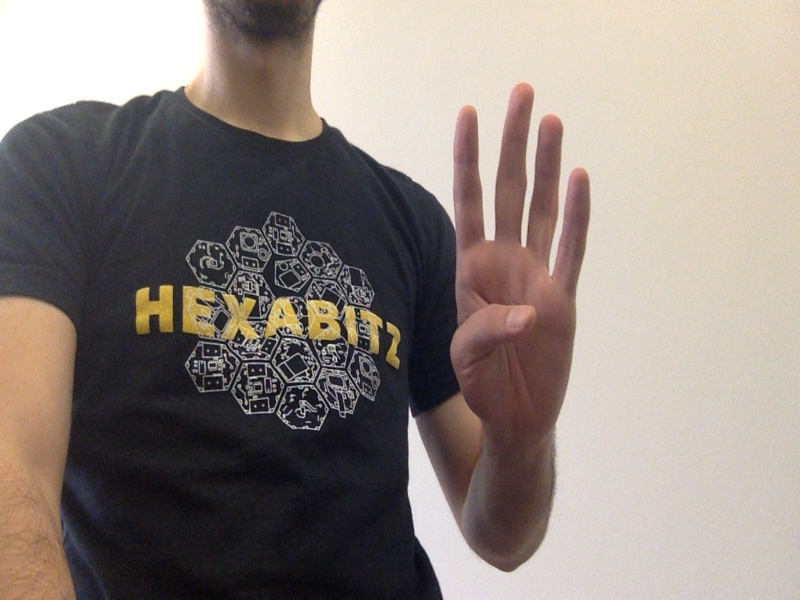4-hand: (454, 84, 591, 427)
